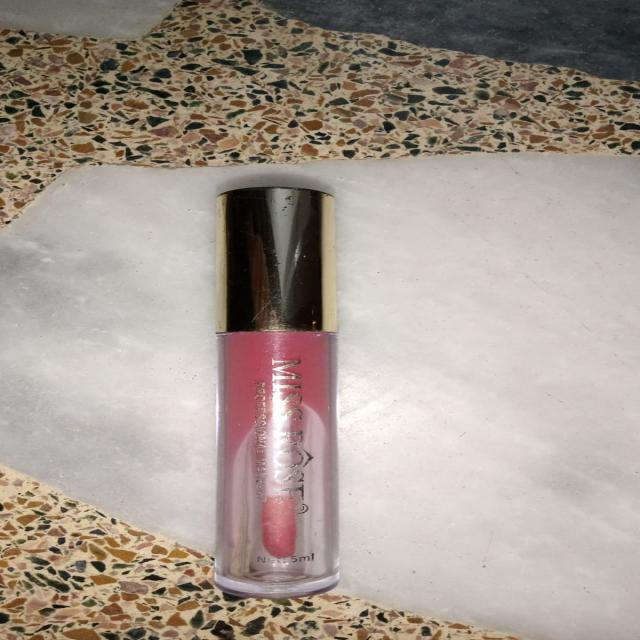lip gloss: (185, 164, 364, 615)
